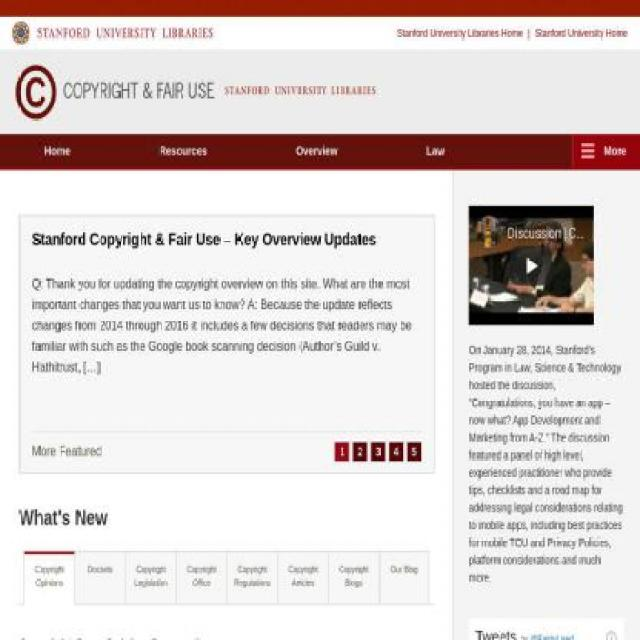button: (16, 66, 376, 120), (114, 134, 252, 168), (251, 134, 383, 168), (0, 134, 115, 168), (382, 134, 489, 168), (23, 551, 75, 607), (74, 551, 126, 607), (277, 551, 329, 607), (176, 551, 227, 607), (227, 551, 278, 607), (328, 551, 379, 607), (379, 551, 430, 607), (126, 551, 176, 607), (574, 134, 640, 168), (352, 442, 368, 462), (388, 442, 404, 462), (406, 442, 422, 462), (335, 442, 350, 462), (370, 442, 385, 462)
